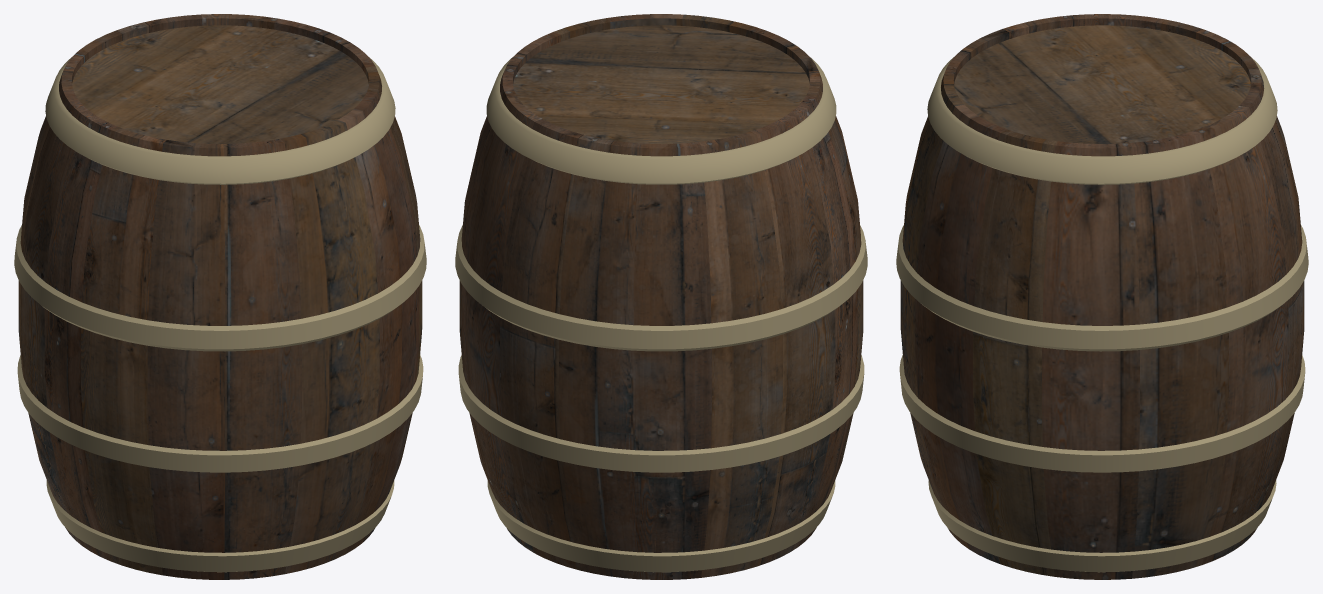
File: WoodBarrel.fbx
The picture shows the model from 3 angles, left to right: view 1: azimuth 30°, elevation 25°; view 2: azimuth 150°, elevation 25°; view 3: azimuth 270°, elevation 25°; orthographic projection.
Parts seen in each view (by area): view 1: WoodBarrel_LOD0; view 2: WoodBarrel_LOD0; view 3: WoodBarrel_LOD0.
Boxes of the visible parts, x1,y1,x2,y2 form: WoodBarrel_LOD0: [14, 14, 426, 579]; WoodBarrel_LOD0: [455, 14, 867, 579]; WoodBarrel_LOD0: [896, 14, 1308, 579].
Size of what is drawn, in the model's own units: 34.67 by 40 by 34.67.
